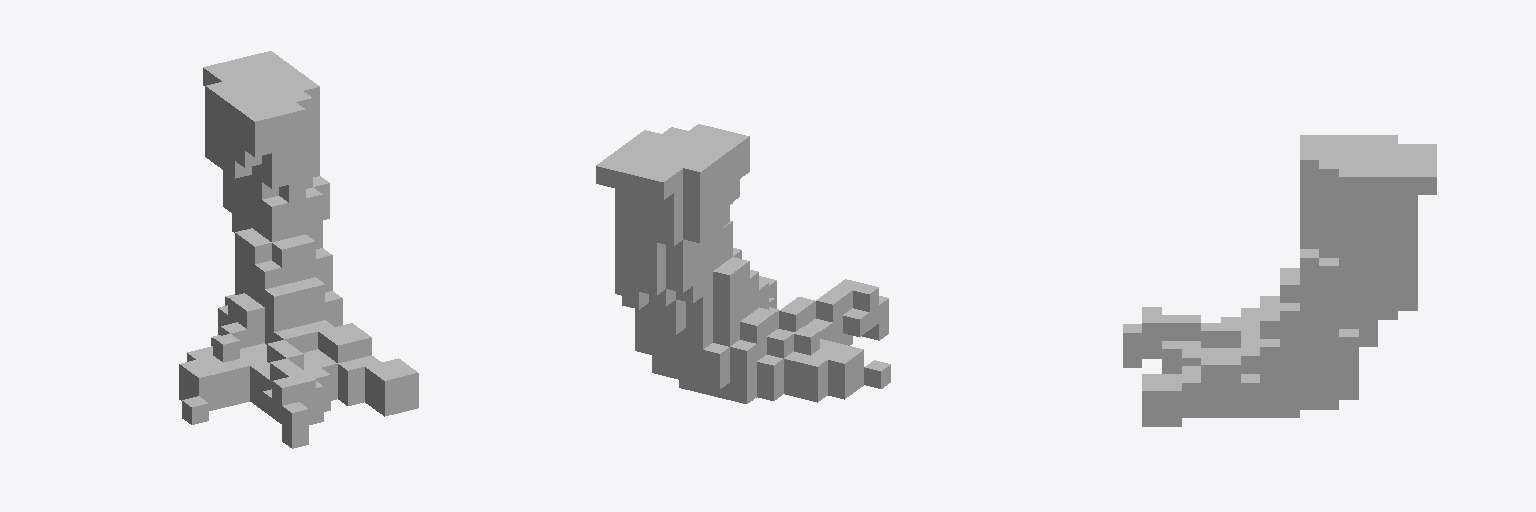
File: dragon_right_foot.obj
3 views of the same model, side by side, from view 1: azimuth 30°, elevation 25°; view 2: azimuth 150°, elevation 25°; view 3: azimuth 270°, elevation 25° (orthographic).
Parts seen in each view (by area): view 1: object 1; view 2: object 1; view 3: object 1.
Boxes of the visible parts, x1=… form: object 1: x1=179, y1=51, x2=418, y2=448; object 1: x1=596, y1=124, x2=890, y2=403; object 1: x1=1123, y1=135, x2=1436, y2=426.
Size of the model in its own units: 1.1 by 1.4 by 1.6.